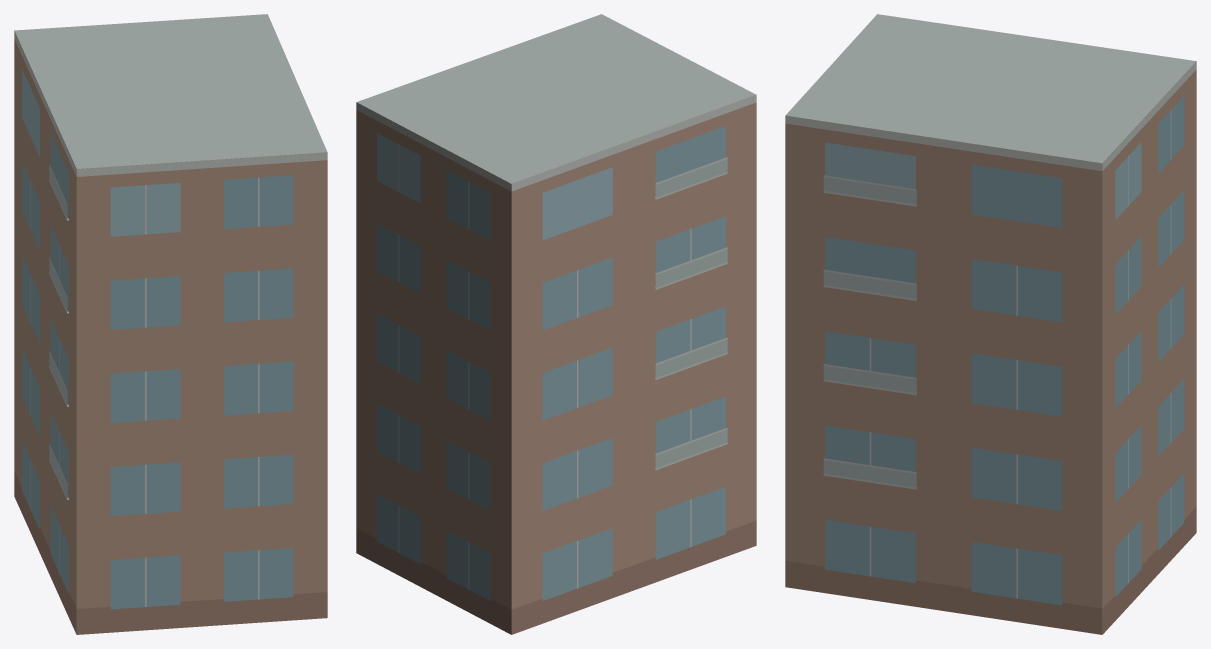
File: survey-upis-32884290.glb
3 views of the same model, side by side, from view 1: azimuth 30°, elevation 25°; view 2: azimuth 150°, elevation 25°; view 3: azimuth 270°, elevation 25° (orthographic). The views are drawn at different scales.
Visible parts, largest first — view 1: survey-upis-32884290.tmp; view 2: survey-upis-32884290.tmp; view 3: survey-upis-32884290.tmp.
Part boxes in pixels (box(x1,y1,x2,y2)): survey-upis-32884290.tmp: box(14, 14, 327, 634); survey-upis-32884290.tmp: box(356, 14, 756, 634); survey-upis-32884290.tmp: box(785, 14, 1196, 634).
Bounding box in the file's own units: 9.79 × 14.4 × 11.39.
